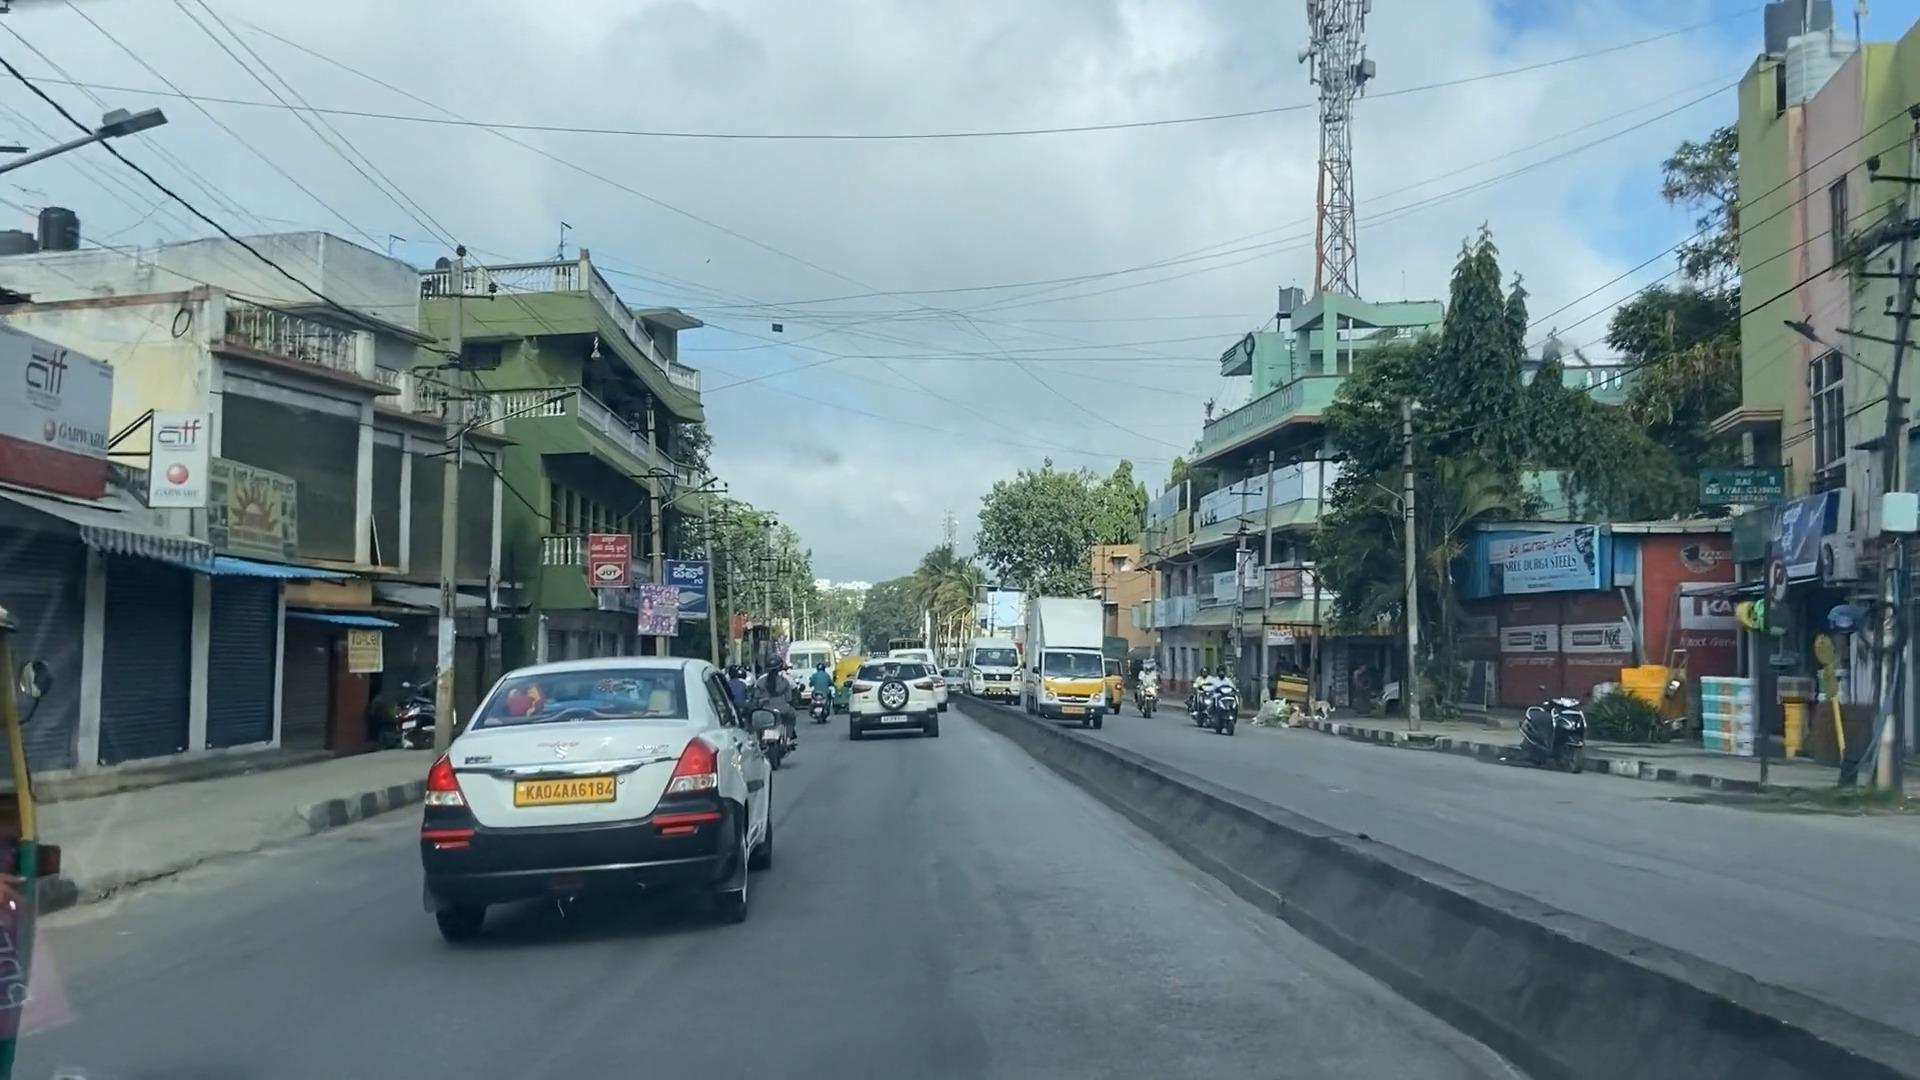LMV: (430, 661, 785, 932), (852, 658, 939, 738)
